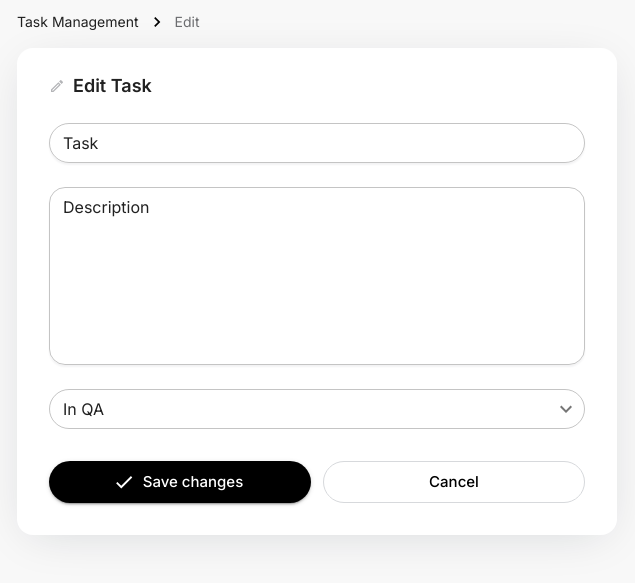
Test: available status options › for "inQa" status
The image size is (635, 583).
Click the dropdown at [84, 409], box [63, 399, 104, 419]
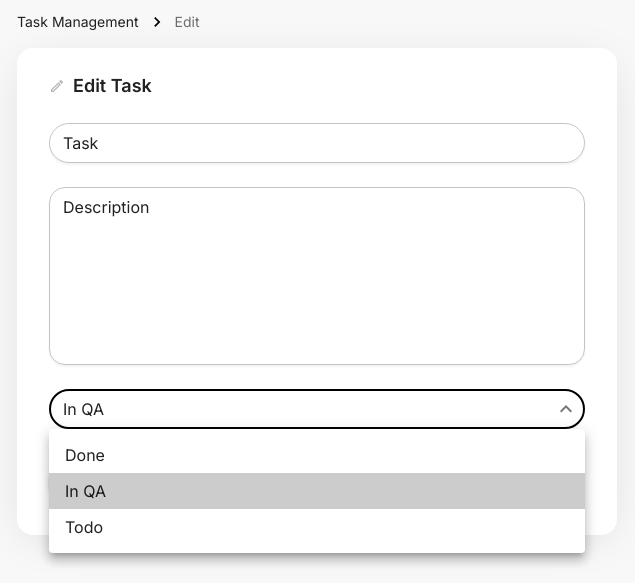
Check: the option with test id "option-inQa" is shown, box [49, 473, 585, 509]
Check: the option with test id "option-todo" is shown, box [65, 517, 103, 537]
Check: the option with test id "option-done" is shown, box [65, 445, 105, 465]
